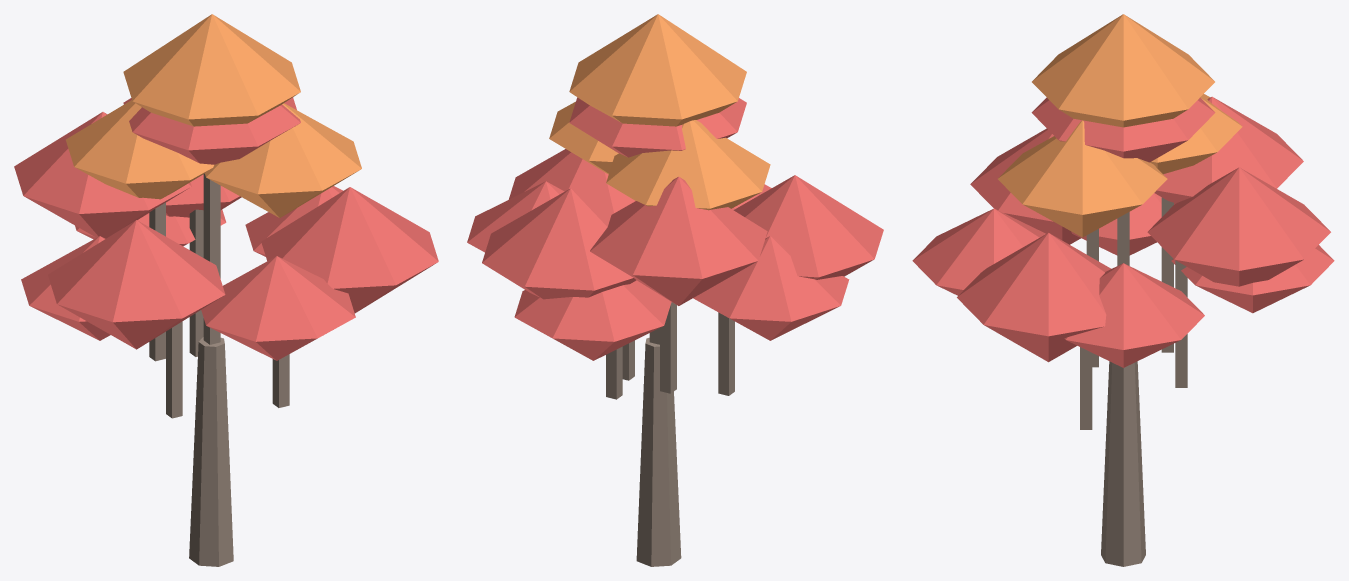
Rendered from flora_21_japanese_red_maple_cay_phong_la_do_dalat_tree.glb.
3 views of the same model, side by side, from view 1: azimuth 30°, elevation 25°; view 2: azimuth 150°, elevation 25°; view 3: azimuth 270°, elevation 25° (orthographic).
Parts seen in each view (by area): view 1: flora_21_japanese_red_maple_cay_phong_la_do_dalat_tree; view 2: flora_21_japanese_red_maple_cay_phong_la_do_dalat_tree; view 3: flora_21_japanese_red_maple_cay_phong_la_do_dalat_tree.
Part boxes in pixels (x1=…): flora_21_japanese_red_maple_cay_phong_la_do_dalat_tree: x1=14, y1=14, x2=438, y2=566; flora_21_japanese_red_maple_cay_phong_la_do_dalat_tree: x1=467, y1=14, x2=883, y2=566; flora_21_japanese_red_maple_cay_phong_la_do_dalat_tree: x1=912, y1=14, x2=1334, y2=566.
Bounding box in the file's own units: 6.25 × 8.8 × 6.2.
